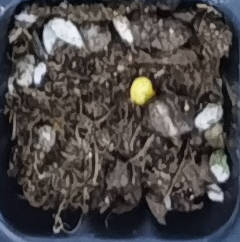pepper seed: (51, 22, 207, 129)
